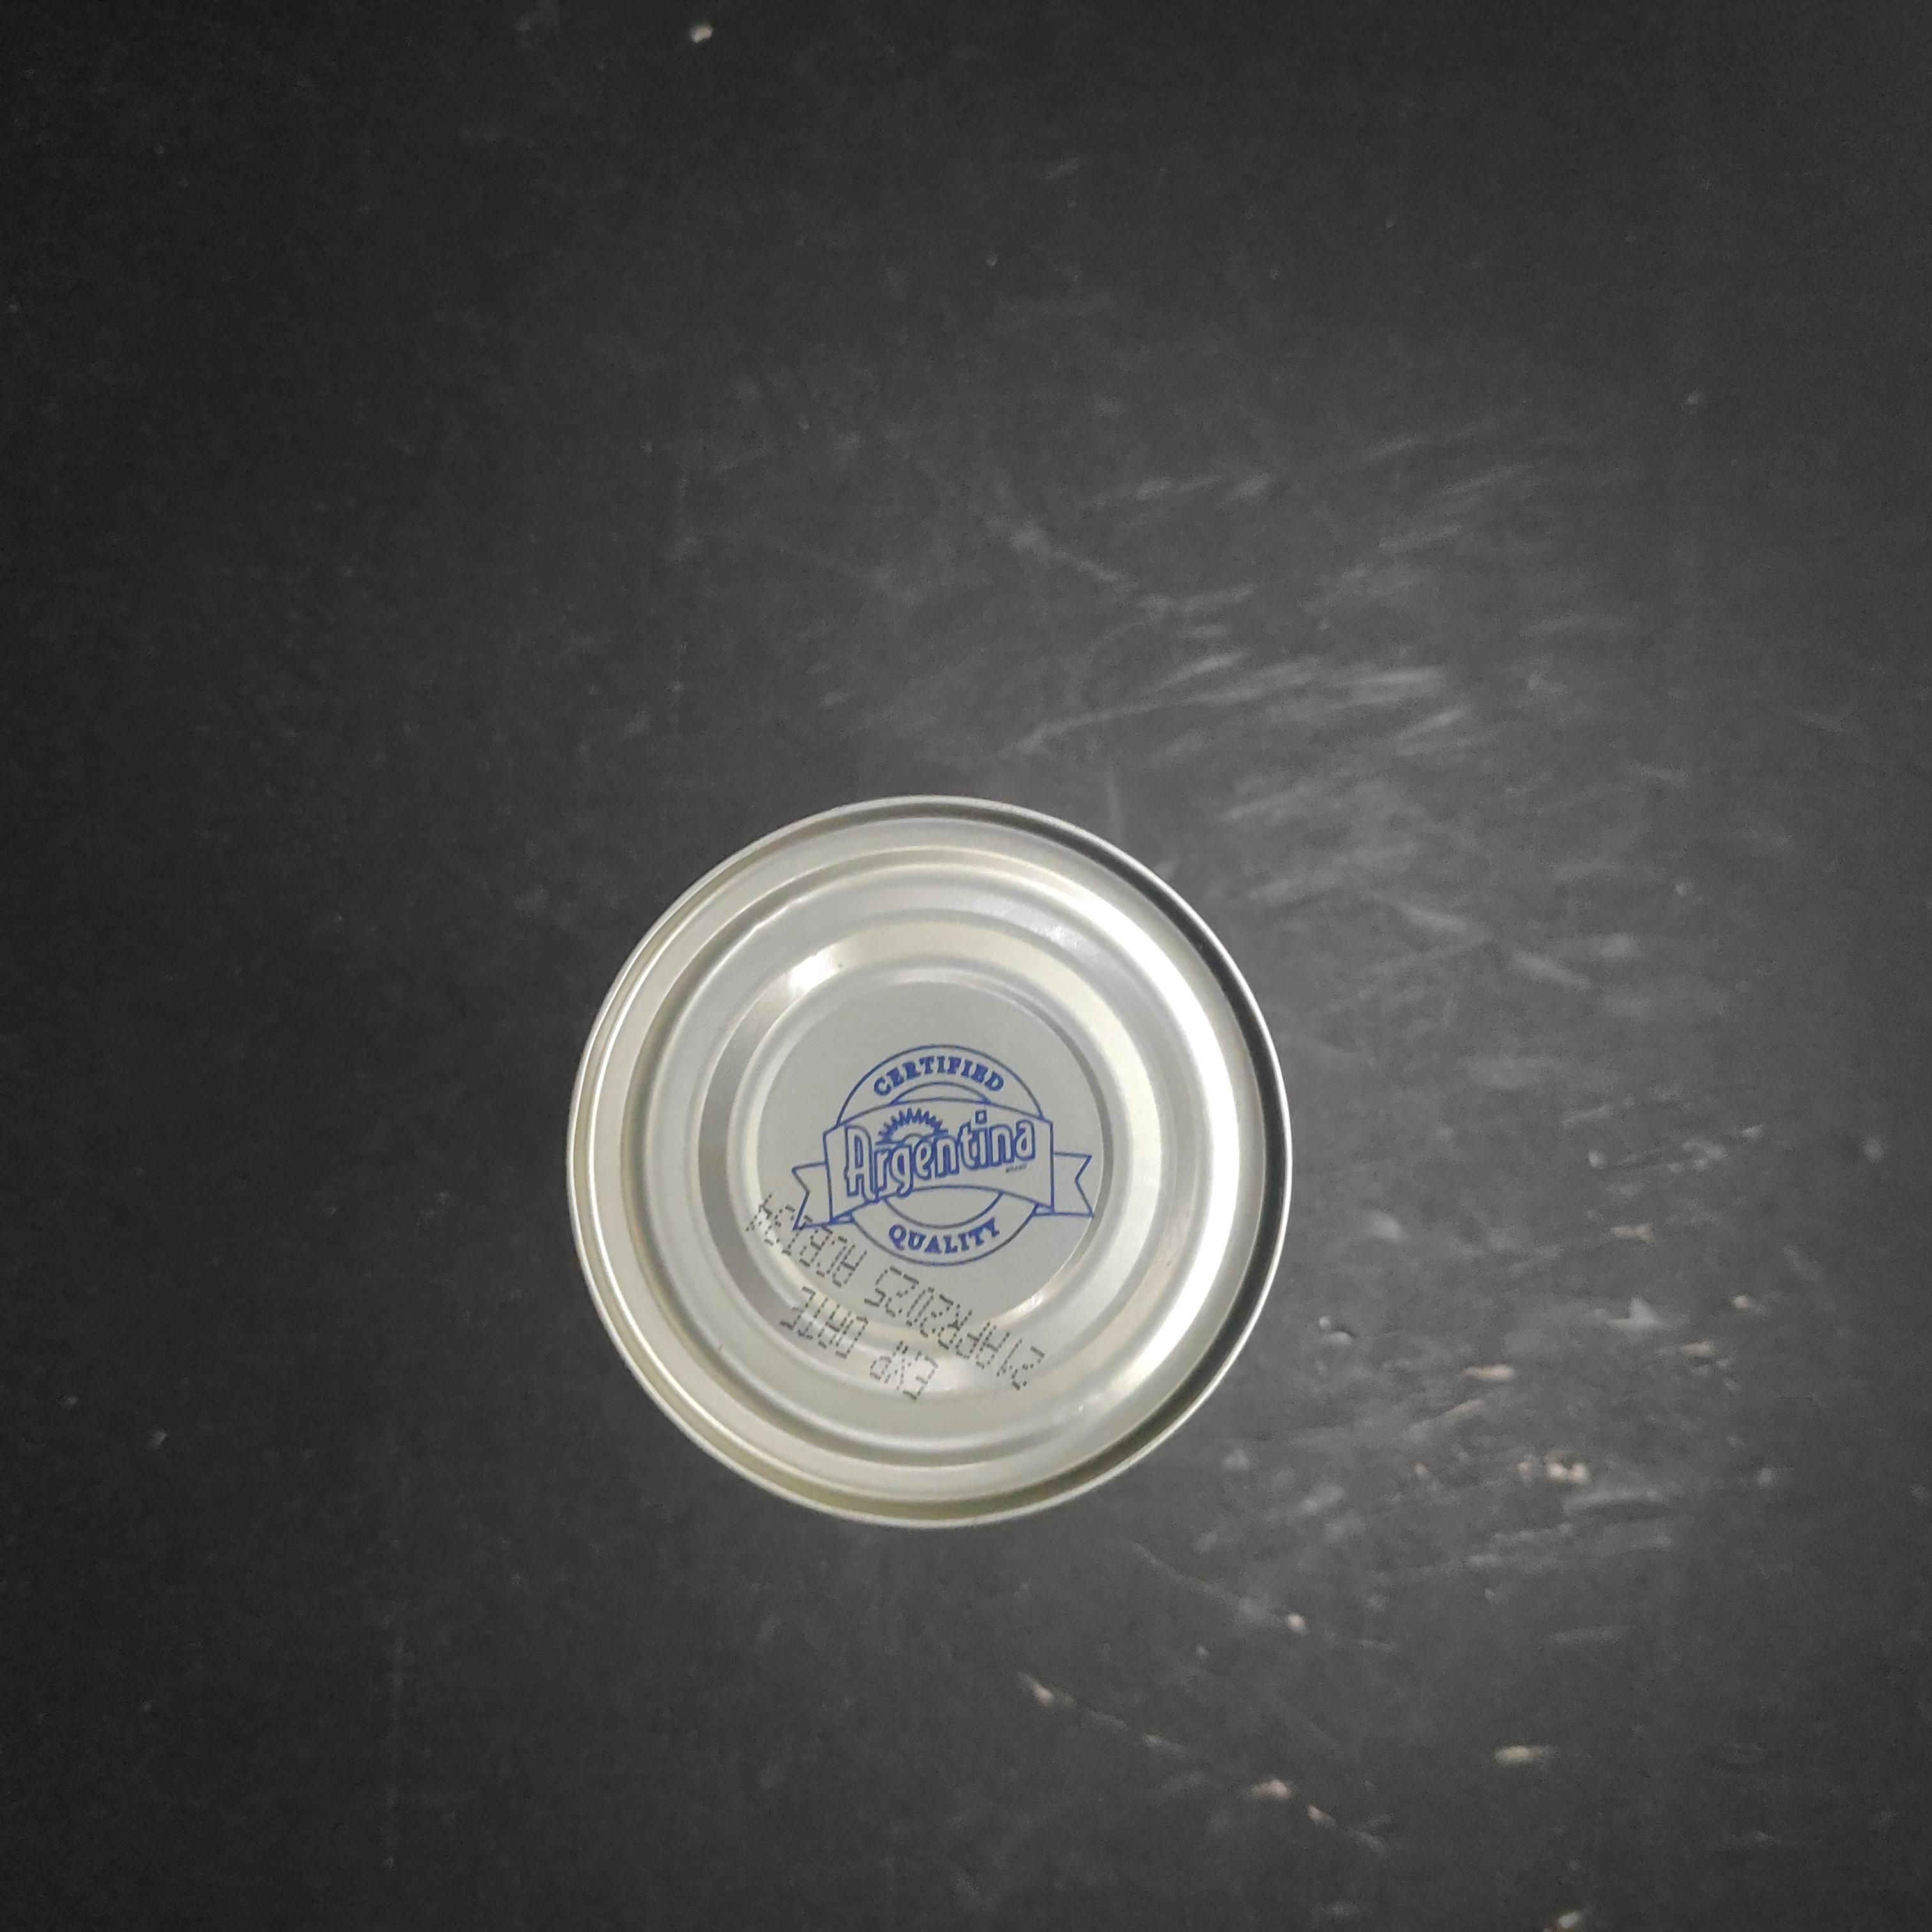No defect: (554, 784, 1307, 1548)
